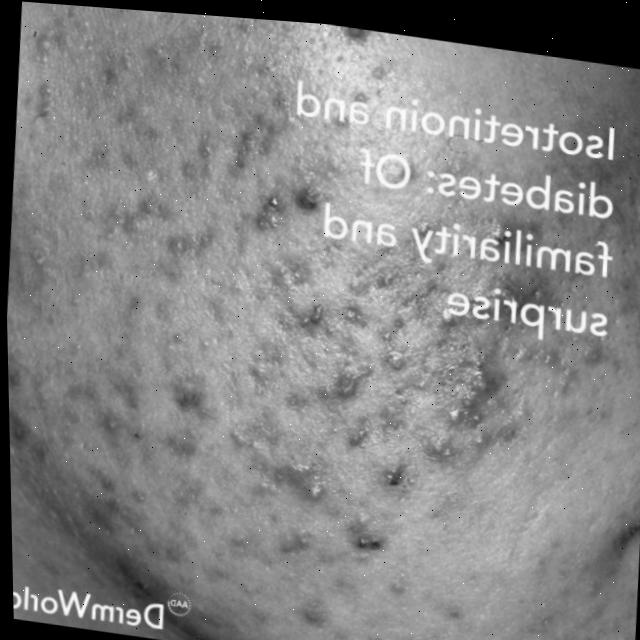Acne: (1, 37, 609, 593)
